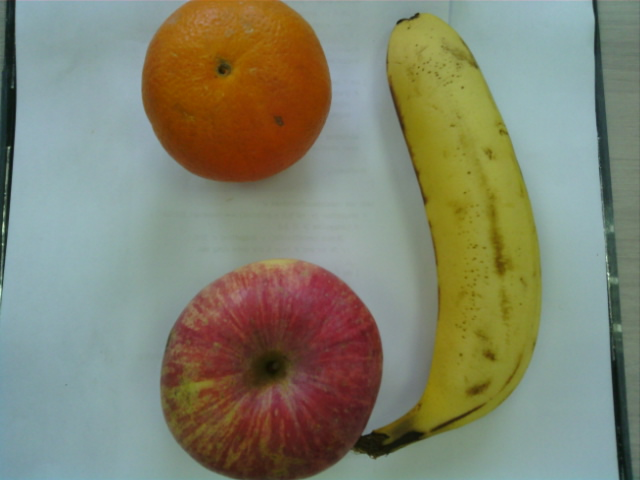normal_apple: (159, 256, 387, 480)
normal_banana: (385, 14, 545, 450)
normal_orange: (137, 1, 336, 183)
